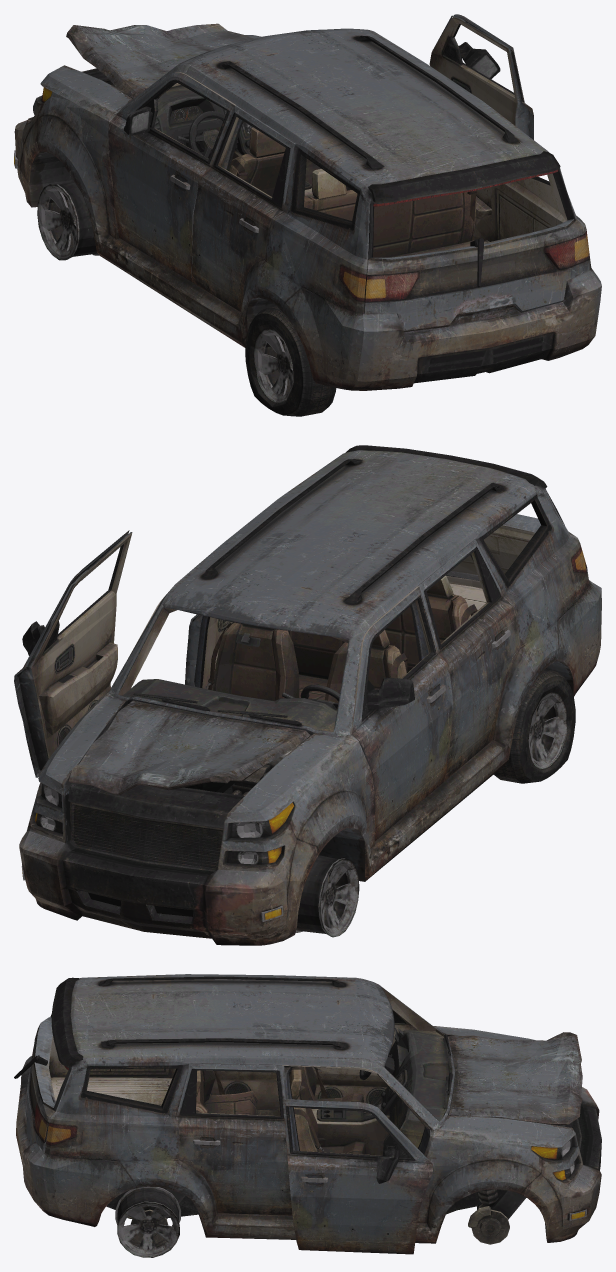
Rendered from DamagedJeep.obj.
3 views of the same model, one above another, from view 1: azimuth 30°, elevation 25°; view 2: azimuth 150°, elevation 25°; view 3: azimuth 270°, elevation 25° (orthographic). The views are drawn at different scales.
Parts seen in each view (by area): view 1: Mesh_0149; view 2: Mesh_0149; view 3: Mesh_0149.
Part boxes in pixels (x1,y1,x2,y2): Mesh_0149: [14, 14, 601, 416]; Mesh_0149: [14, 445, 601, 945]; Mesh_0149: [14, 974, 601, 1257].
Bounding box in the file's own units: 231 × 148 × 383.
